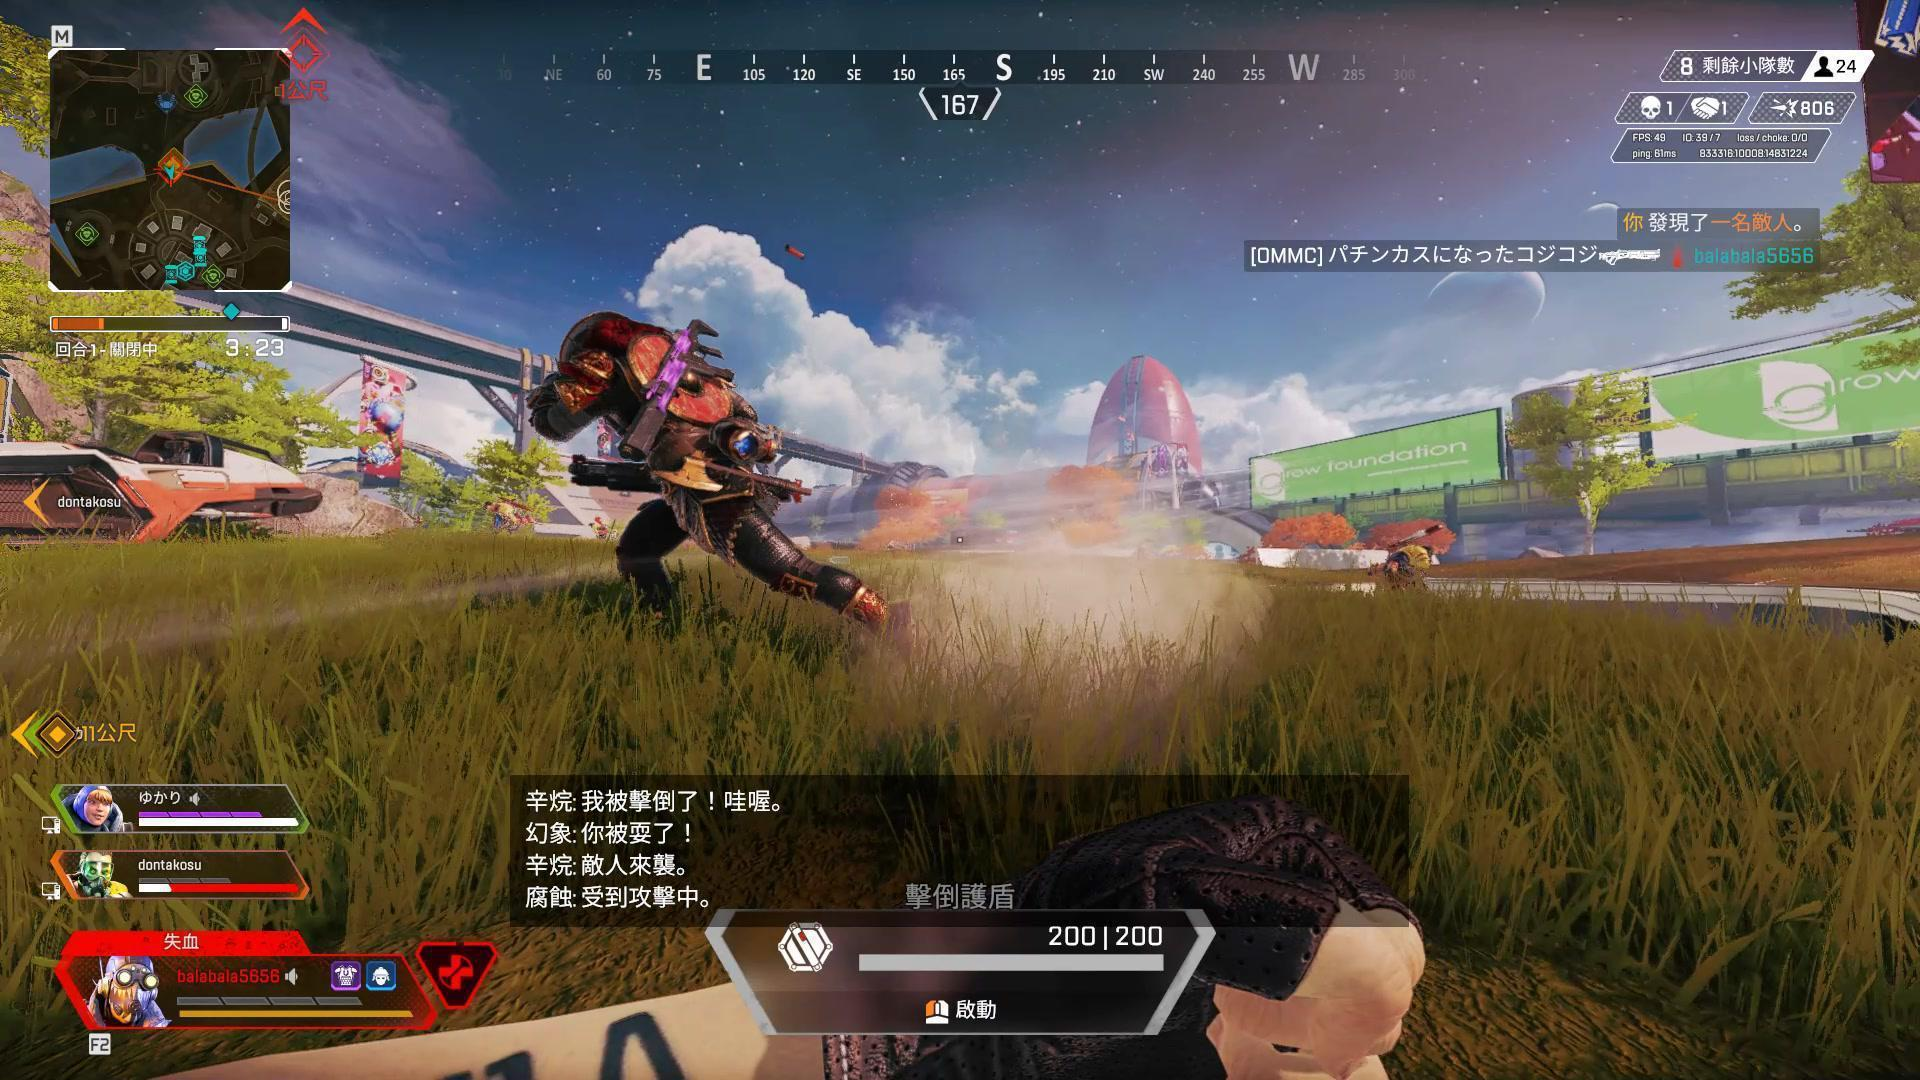avatar: (557, 310, 764, 615)
